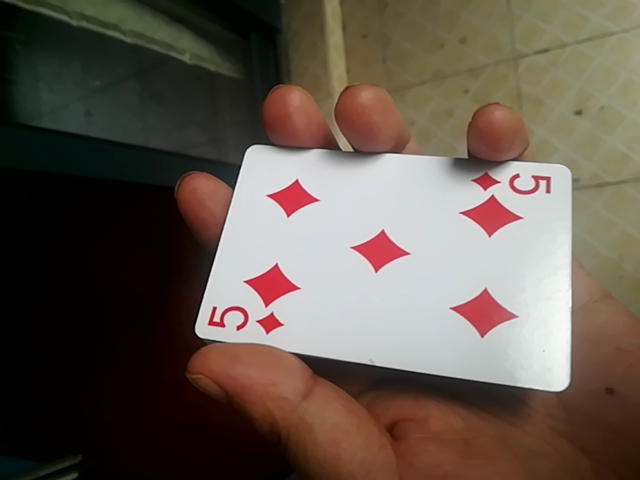fk 5: (189, 147, 583, 393)
